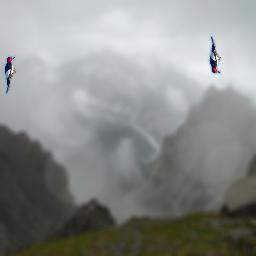Woodpecker: (207, 36, 221, 76), (2, 54, 16, 94)
